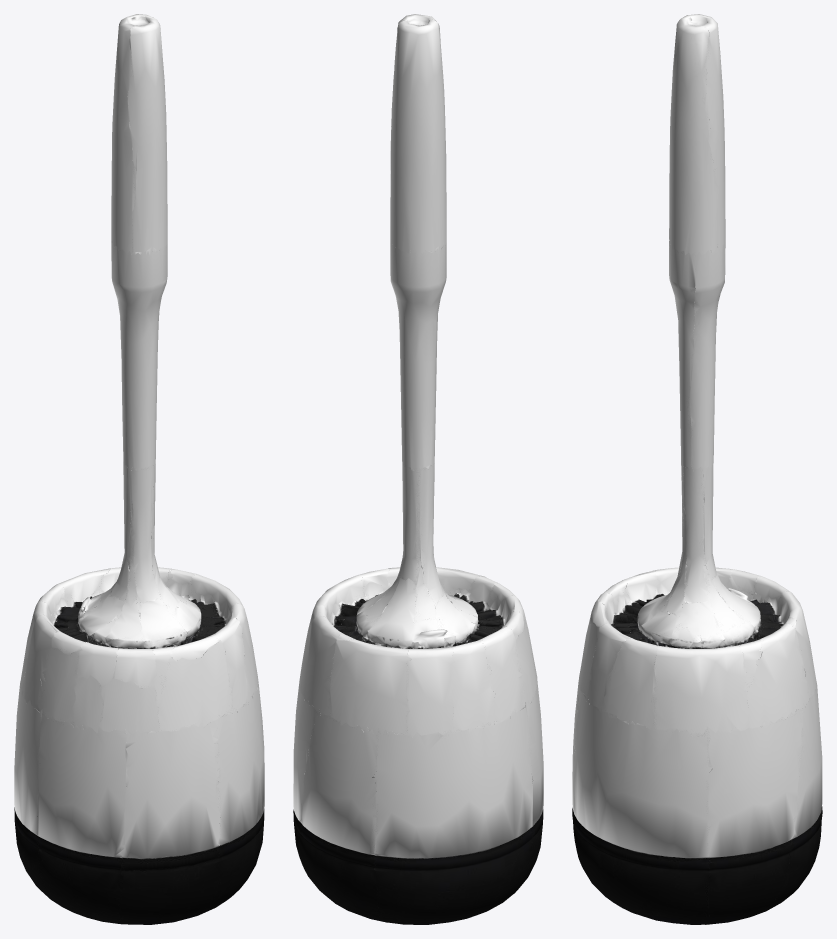
File: mk2-toilet-brush.glb
The picture shows the model from 3 angles, left to right: view 1: azimuth 30°, elevation 25°; view 2: azimuth 150°, elevation 25°; view 3: azimuth 270°, elevation 25°; orthographic projection.
Visible parts, largest first — view 1: mesh_node; view 2: mesh_node; view 3: mesh_node.
Boxes of the visible parts, x1,y1,x2,y2 form: mesh_node: (14, 14, 264, 924); mesh_node: (293, 14, 543, 924); mesh_node: (572, 14, 822, 924).
Size of the model in its own units: 0.4877 by 1.9 by 0.4881.
1 material, 1 textured.
